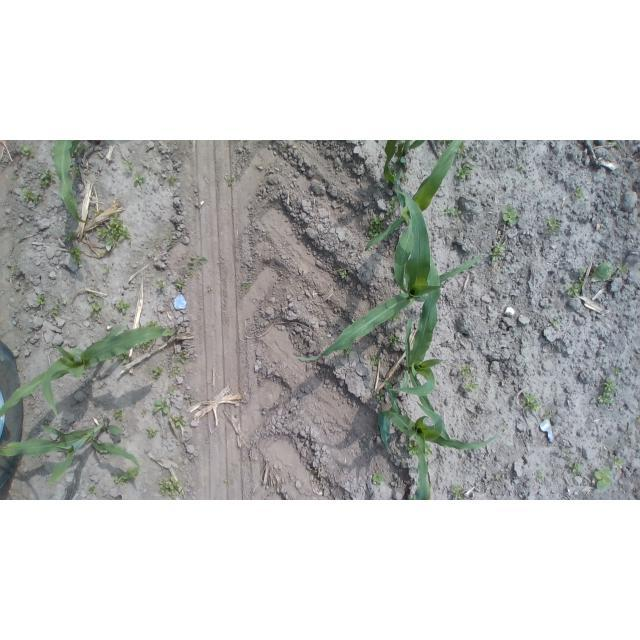Maize: (295, 187, 482, 363), (0, 322, 166, 416), (380, 381, 497, 500), (390, 257, 452, 442), (365, 141, 464, 252), (0, 420, 140, 484), (54, 140, 101, 224), (383, 140, 425, 184)
Weeds: (92, 209, 133, 252), (577, 262, 615, 287), (158, 476, 184, 499), (591, 465, 613, 490), (598, 379, 618, 405), (112, 466, 140, 484), (187, 254, 208, 276), (370, 214, 387, 239), (88, 293, 105, 317), (523, 392, 541, 412), (543, 216, 561, 236), (489, 243, 508, 261), (24, 188, 44, 205), (502, 205, 519, 225), (40, 168, 56, 188), (68, 244, 83, 265), (456, 164, 473, 180), (386, 195, 398, 217), (15, 144, 35, 157), (567, 280, 583, 296), (451, 484, 467, 500), (404, 440, 419, 457), (154, 397, 168, 415), (439, 207, 463, 217), (115, 299, 131, 314), (463, 381, 479, 394), (612, 455, 625, 471), (568, 461, 582, 475), (152, 366, 165, 381), (133, 171, 145, 187), (71, 164, 82, 181), (168, 365, 182, 378), (372, 471, 385, 485), (176, 350, 188, 365), (156, 280, 169, 293), (460, 366, 473, 379), (148, 428, 161, 441), (343, 345, 355, 359), (572, 187, 584, 201), (173, 416, 187, 428), (123, 160, 136, 172), (223, 172, 235, 185), (389, 333, 401, 346), (168, 234, 177, 250), (112, 408, 123, 421), (388, 312, 400, 323), (369, 355, 382, 365), (35, 294, 45, 306), (140, 339, 152, 349), (376, 389, 386, 401), (550, 317, 560, 328), (617, 263, 627, 274), (163, 328, 175, 337), (424, 443, 432, 456), (176, 278, 185, 289), (88, 485, 97, 496), (340, 269, 349, 280), (147, 321, 161, 328), (77, 142, 85, 154), (121, 352, 129, 364), (562, 448, 571, 458), (168, 384, 177, 394), (51, 307, 60, 317), (64, 232, 73, 241), (536, 472, 544, 482), (168, 175, 176, 185), (401, 173, 408, 184), (390, 168, 398, 177), (140, 408, 148, 417), (440, 141, 453, 146), (188, 396, 196, 404), (458, 151, 465, 160), (243, 283, 249, 293), (460, 143, 468, 150), (612, 367, 620, 374), (11, 267, 18, 275), (500, 422, 507, 429), (545, 411, 552, 418), (496, 477, 503, 484), (516, 164, 524, 170), (467, 154, 473, 161), (224, 478, 231, 484), (73, 148, 78, 156), (53, 144, 56, 157), (64, 300, 69, 307), (407, 496, 413, 501), (636, 415, 640, 422), (104, 268, 109, 273), (612, 141, 617, 146), (208, 285, 212, 291), (160, 176, 165, 180), (402, 140, 406, 144), (88, 365, 93, 368), (480, 464, 483, 468), (1, 158, 4, 162)
